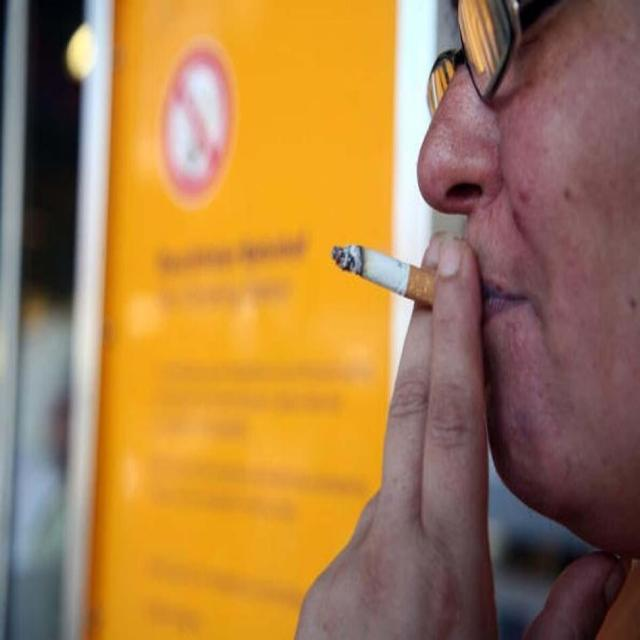Smoking_Drinking: (263, 71, 603, 405)
